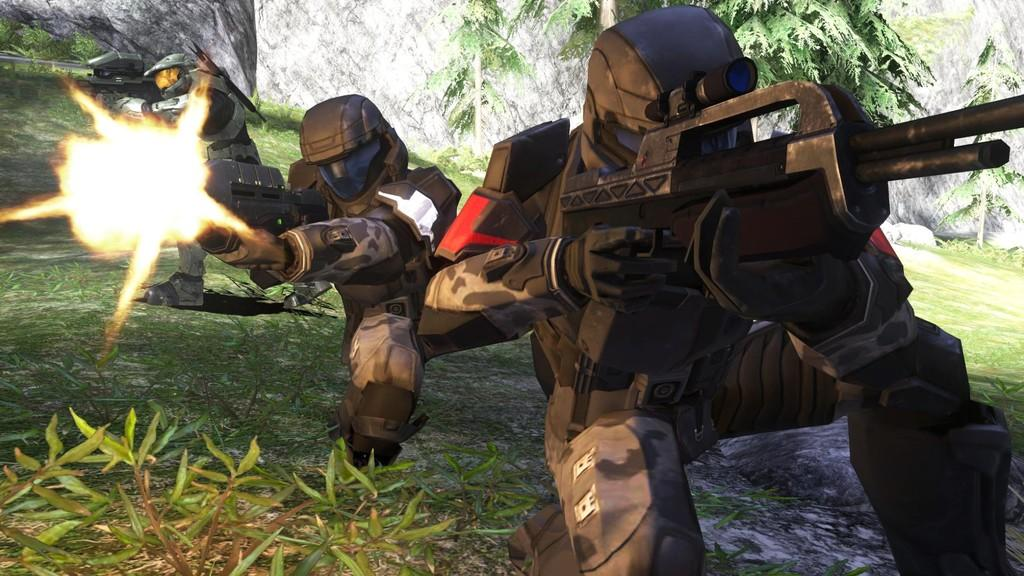Rifle: (552, 58, 1023, 253)
